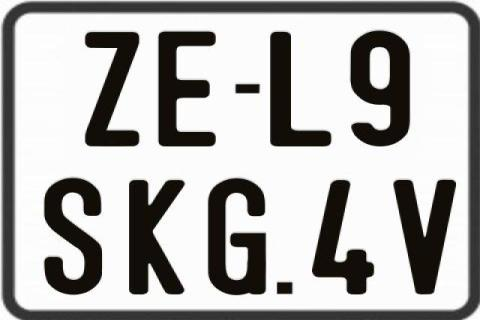0: (310, 178, 372, 294), (350, 31, 411, 147)
E: (155, 29, 213, 149)
G: (205, 178, 263, 298)
K: (126, 180, 185, 296)
L: (270, 30, 332, 148)
S: (42, 175, 100, 295)
V: (391, 180, 454, 295)
Z: (84, 32, 142, 147)
